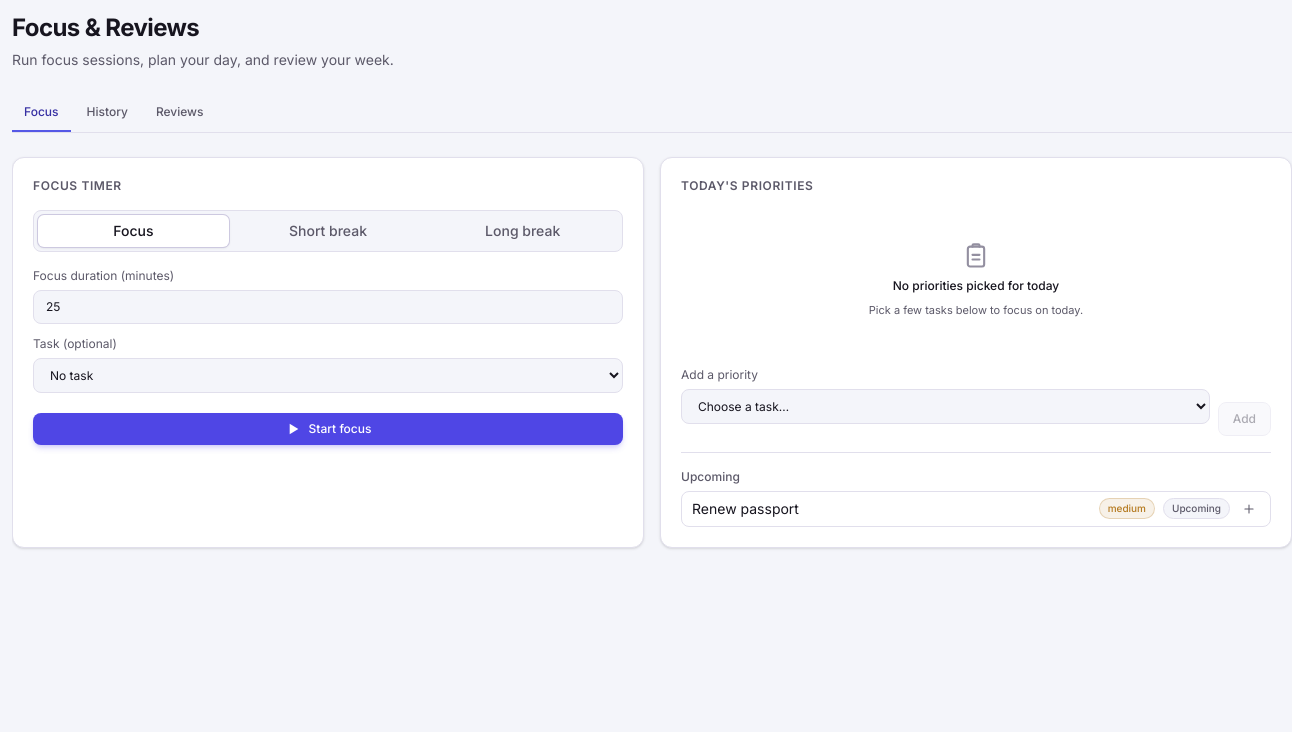
FocusTab — planning sections (overdue / due today / upcoming) › lets a planning-section task be added directly to today's priorities
Expected: the text "Renew passport" is shown, x1=692 y1=500 x2=799 y2=516
Click the button named "add \"renew passport\" to today's priorities".
click(1249, 508)  # box x1=1238 y1=498 x2=1260 y2=520
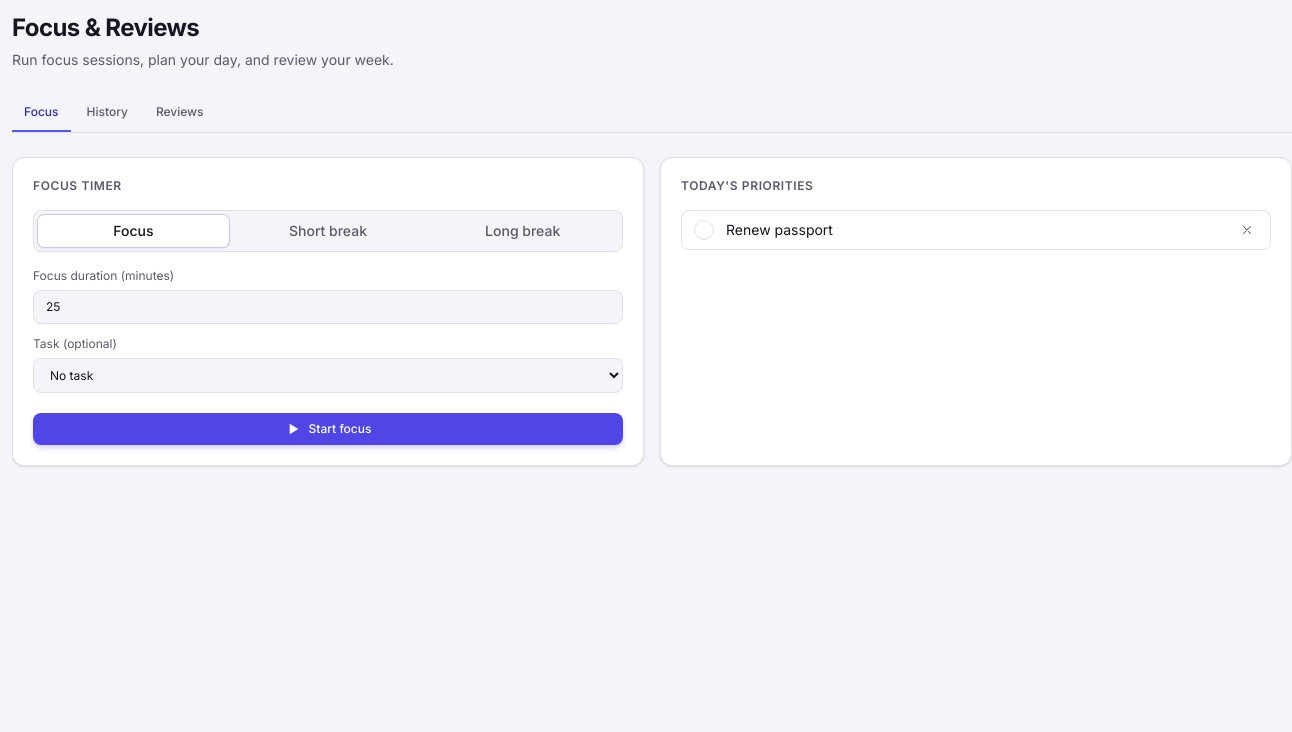
Now the text "Upcoming" is gone
